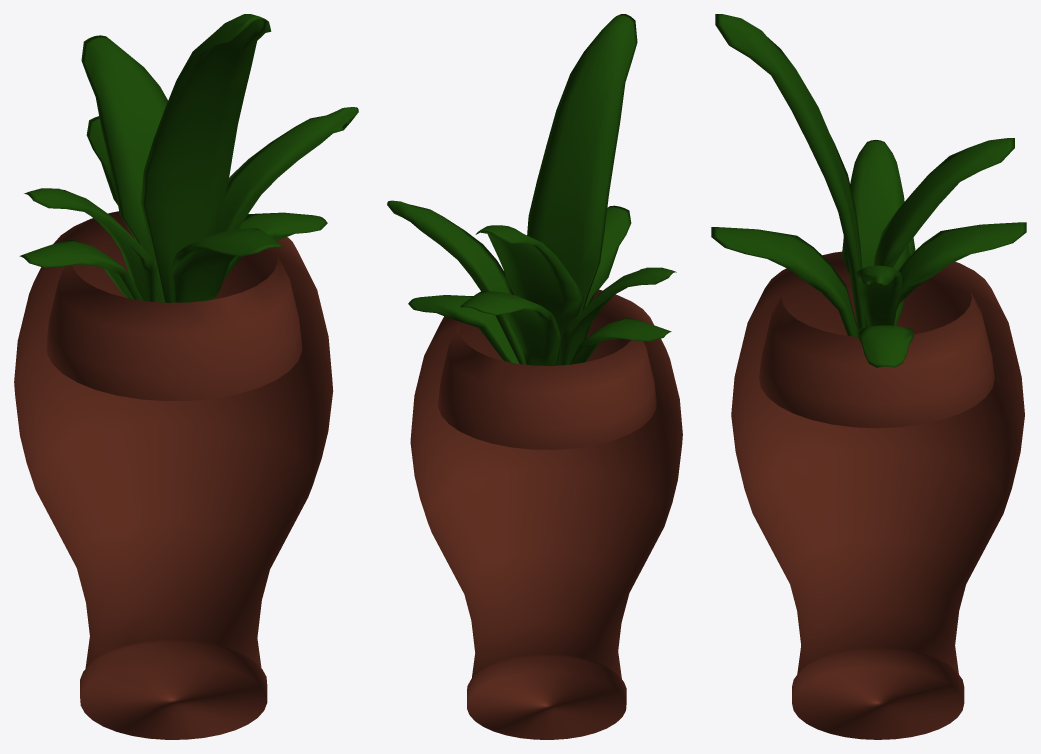
File: pot_adjustModel1.fbx
3 views of the same model, side by side, from view 1: azimuth 30°, elevation 25°; view 2: azimuth 150°, elevation 25°; view 3: azimuth 270°, elevation 25° (orthographic). The views are drawn at different scales.
Parts seen in each view (by area): view 1: Cube.002; view 2: Cube.002; view 3: Cube.002.
Part boxes in pixels (x1,y1,x2,y2): Cube.002: [14, 14, 358, 739]; Cube.002: [387, 14, 682, 739]; Cube.002: [711, 14, 1026, 739].
Bounding box in the file's own units: 230 × 496 × 207.
